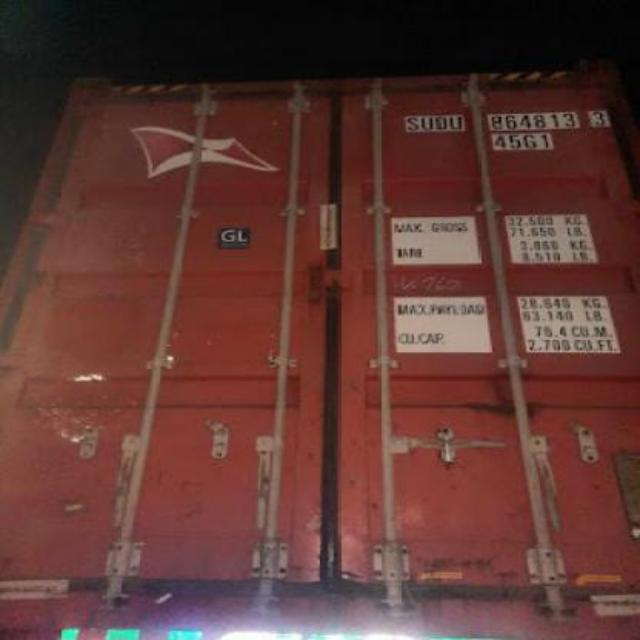1: (550, 106, 562, 134)
3: (562, 106, 584, 136), (592, 104, 608, 128)
4: (520, 110, 534, 134)
6: (506, 110, 518, 134)
8: (488, 110, 504, 134), (534, 110, 550, 130)
D: (434, 112, 448, 134)
S: (404, 113, 418, 137)
U: (450, 108, 468, 136), (420, 111, 436, 132)
